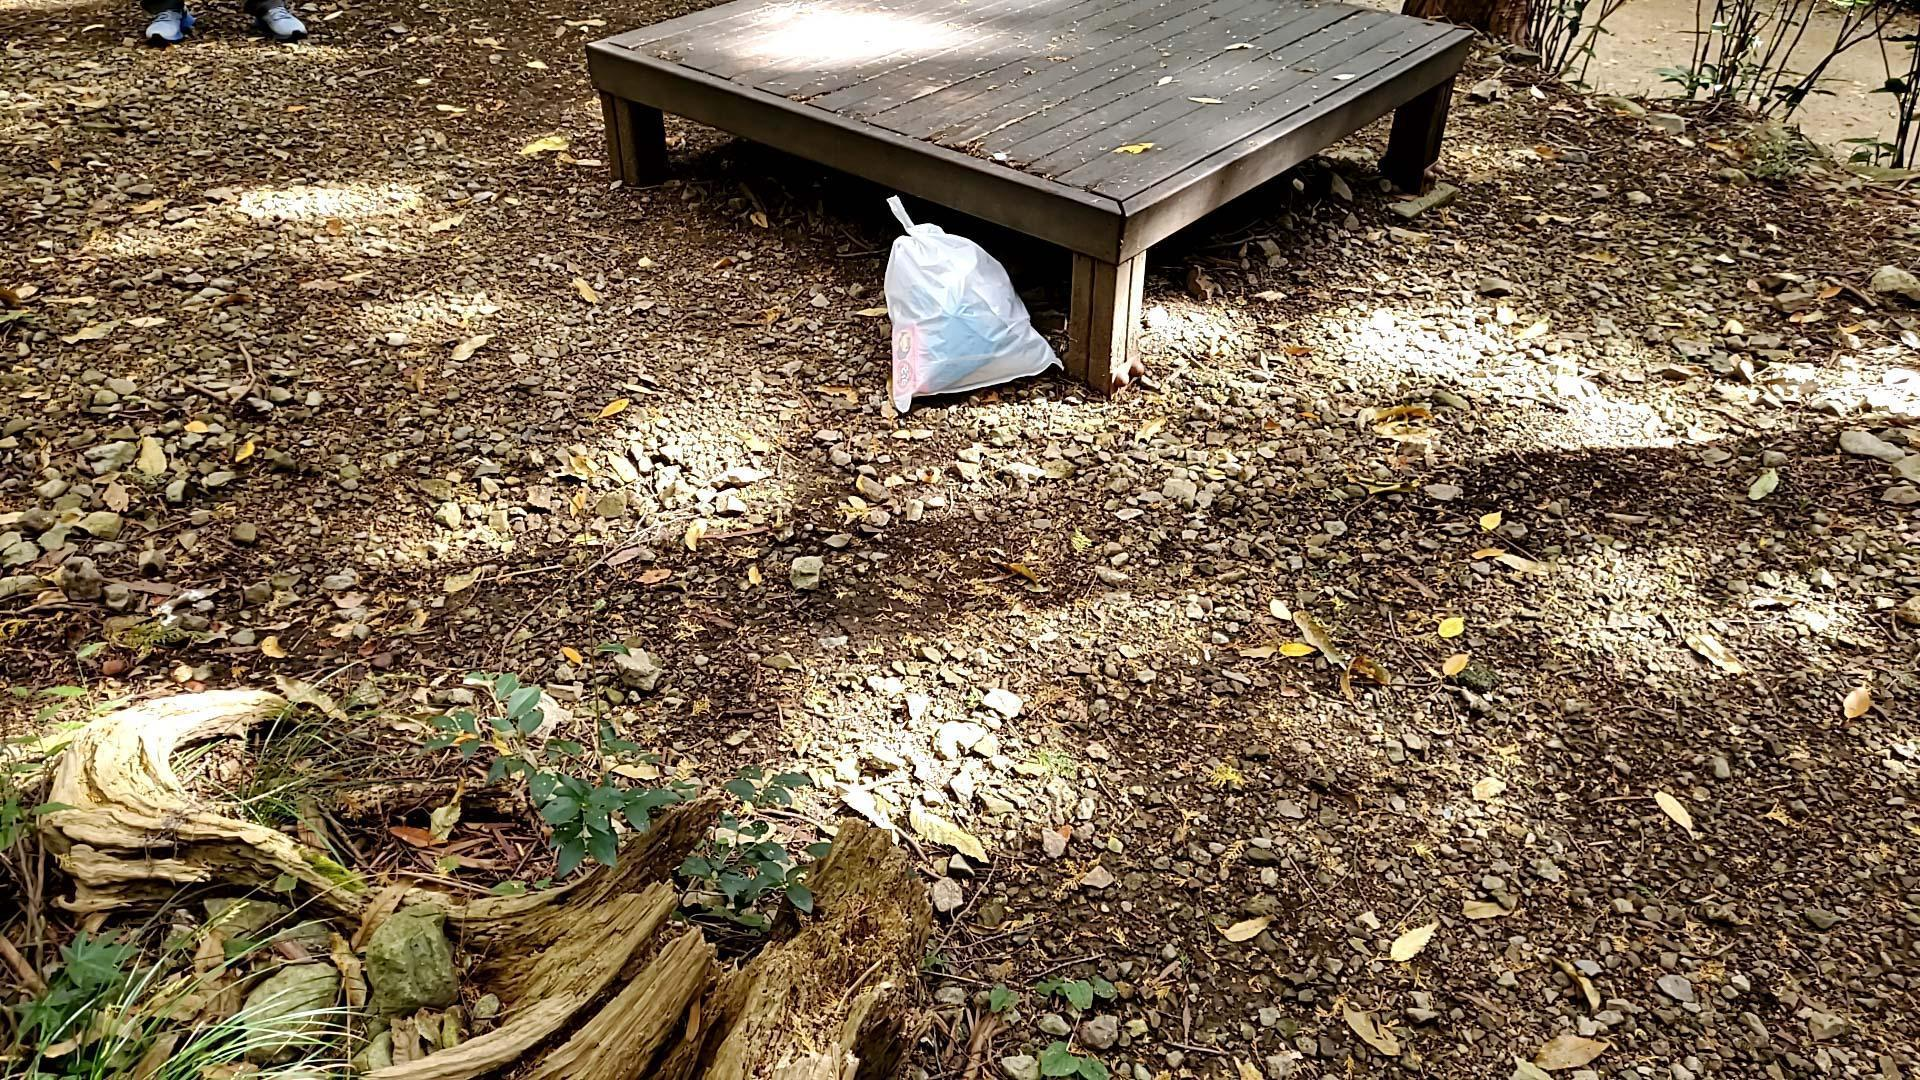white_bag: (858, 185, 1083, 419)
